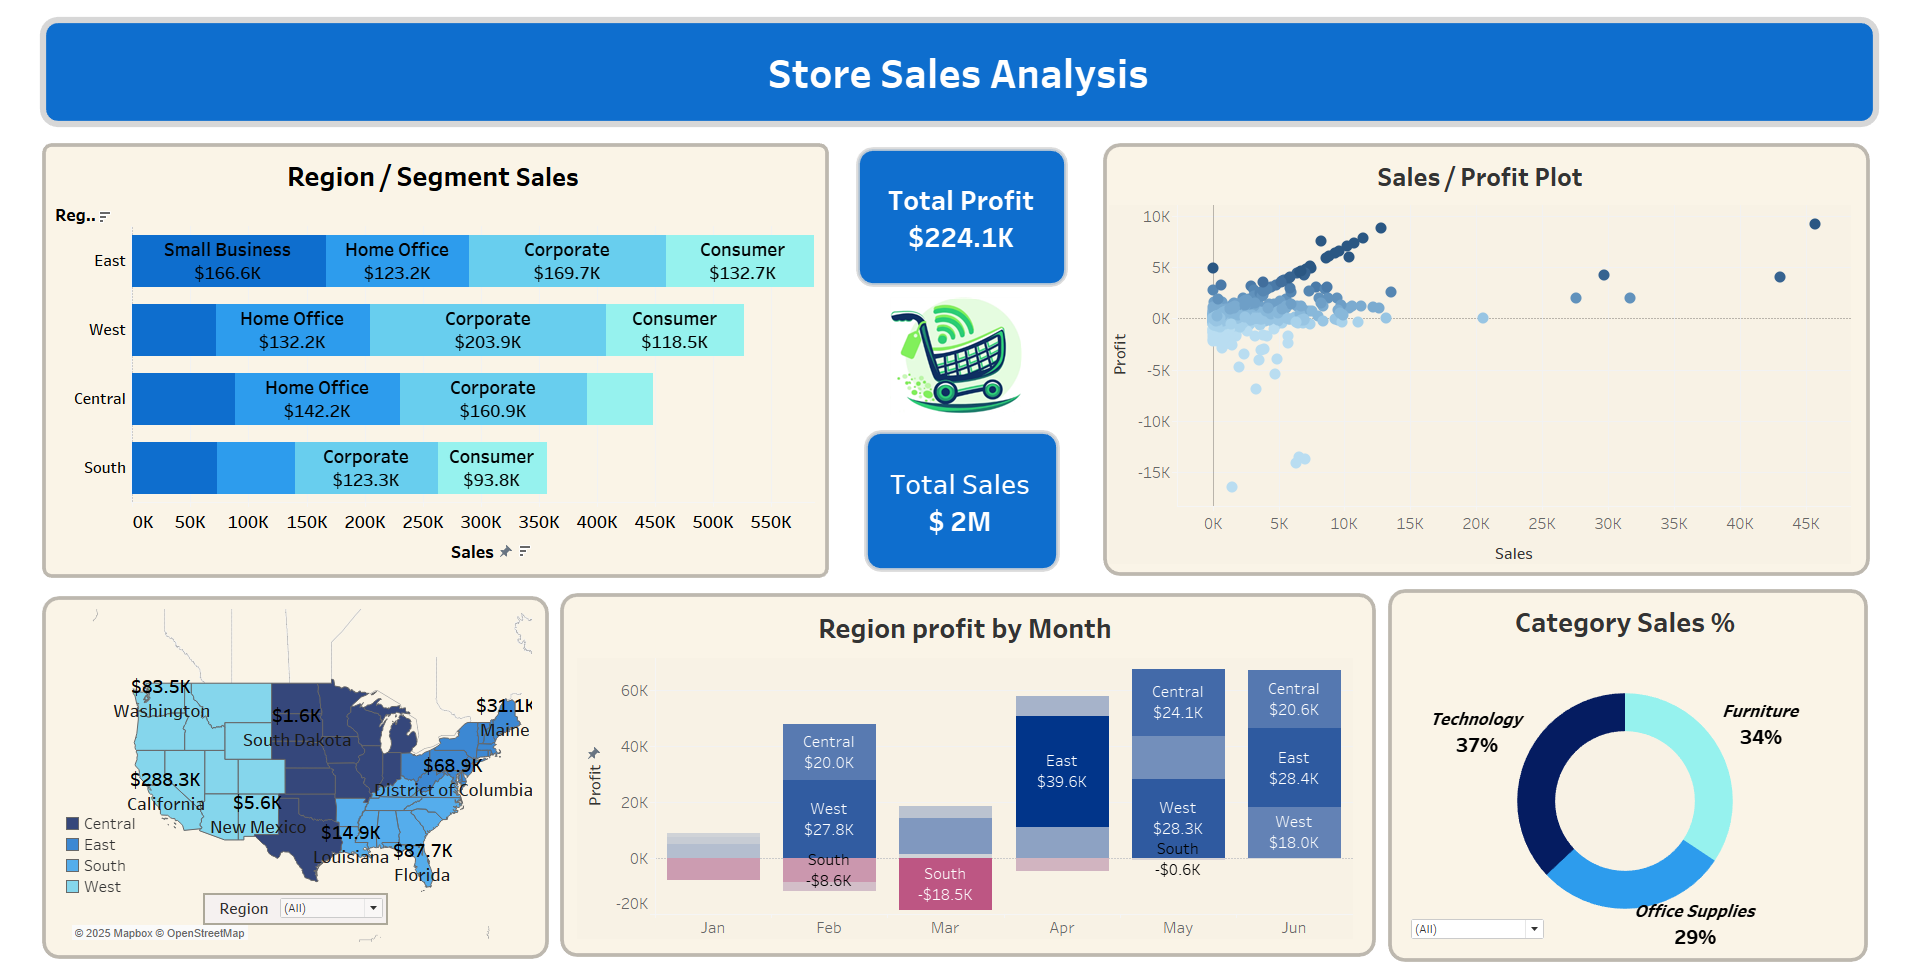

What the dashboard file says about the page in this screenshot:
{"tool":"tableau","page":{"name":"Dashboard 2","canvas":[1000,1000],"units":"permille","ordinal":1},"visuals":[{"type":"worksheet","title":"design","mark":"Automatic","box":[4.8,9.7,990.3,980.6]},{"type":"worksheet","title":"Barchart","mark":"Automatic","rows":["Region"],"cols":["Sales"],"box":[27.2,160,397.7,417]},{"type":"worksheet","title":"profit card","mark":"Automatic","box":[454.4,161.2,92.9,126.1]},{"type":"worksheet","title":"scatter","mark":"Automatic","rows":["Profit"],"cols":["Sales"],"box":[578.1,162.4,386.2,408.5]},{"type":"image","param":"G:/A GM/ShareX/Screenshots/2025-05/brave_w6j5kx6dtM.png","box":[464.1,300.6,68.8,122.4]},{"type":"worksheet","title":"sales card","mark":"Automatic","box":[455.6,448.5,89.3,120]},{"type":"worksheet","title":"Donut","mark":"Pie","rows":["Calculation_2244762950155411456","Calculation_2244762950155431937"],"box":[732.1,606.1,229.3,350.3]},{"type":"worksheet","title":"Trend bar","mark":"Bar","rows":["Profit"],"cols":["Order Date"],"box":[301.2,612.1,404.4,333.3]},{"type":"worksheet","title":"Map","mark":"Multipolygon","box":[36.2,614.6,241.4,333.3]},{"type":"legend","title":"Map","param":"[federated.0akl8o1068ae7p15jsy2k10h22pm].[none:Region:nk]","box":[32.6,819.4,49.5,128.5]},{"type":"filter","title":"Map","param":"[federated.0akl8o1068ae7p15jsy2k10h22pm].[none:Region:nk]","box":[106.2,899.4,96.6,31.5]},{"type":"filter","title":"Donut","param":"[federated.0akl8o1068ae7p15jsy2k10h22pm].[none:Product Category:nk]","box":[733.9,922.4,72.4,26.7]}]}

Visuals, with their boxes on the dashboard's canvas, which has no fixed pixel size, in thousandths of its width and height (x1, y1, x2, y2). These are canvas units, not pixel positions in the 1916x972 screenshot, which may show the page scaled, cropped or inside an application window:
"design" worksheet: 5/10/995/990
"Barchart" worksheet: 27/160/425/577
"profit card" worksheet: 454/161/547/287
"scatter" worksheet: 578/162/964/571
image: 464/301/533/423
"sales card" worksheet: 456/448/545/568
"Donut" worksheet (Pie marks): 732/606/961/956
"Trend bar" worksheet (Bar marks): 301/612/706/945
"Map" worksheet (Multipolygon marks): 36/615/278/948
"Map" legend: 33/819/82/948
"Map" filter: 106/899/203/931
"Donut" filter: 734/922/806/949
